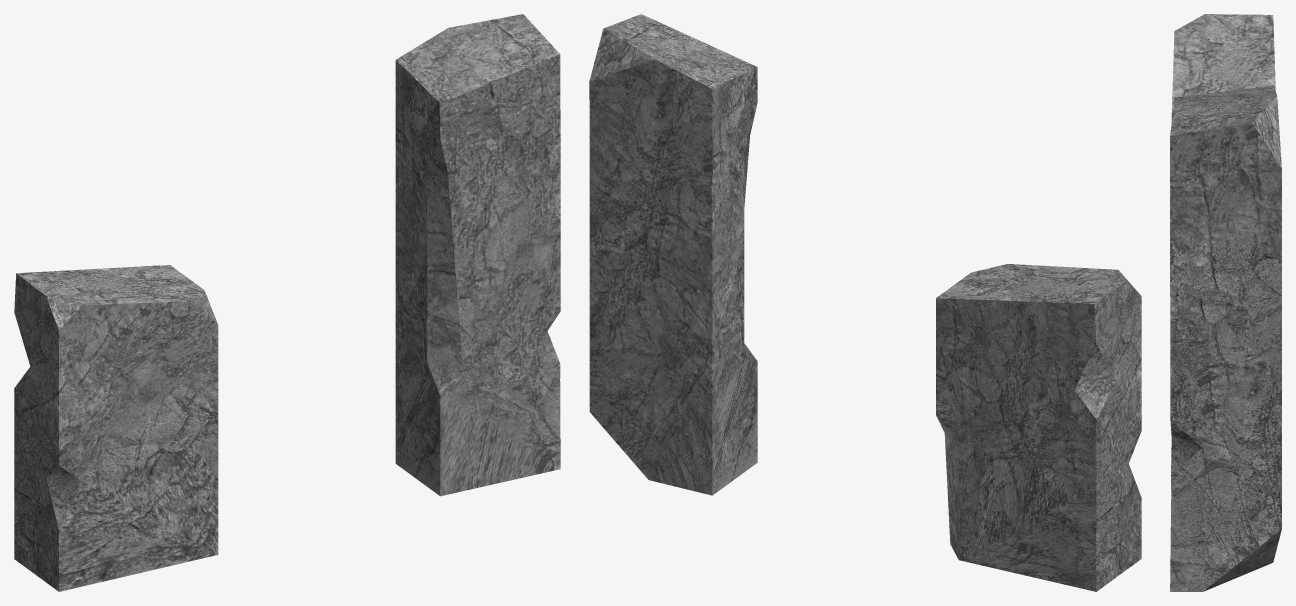
The model's file is materials_3_wall_8.fbx.
3 views of the same model, side by side, from view 1: azimuth 30°, elevation 25°; view 2: azimuth 150°, elevation 25°; view 3: azimuth 270°, elevation 25° (orthographic). The views are drawn at different scales.
Visible parts, largest first — view 1: materials_3_wall_8; view 2: materials_3_wall_8; view 3: materials_3_wall_8.
Part boxes in pixels (box(x1,y1,x2,y2)): materials_3_wall_8: box(14, 14, 560, 591); materials_3_wall_8: box(589, 14, 1141, 591); materials_3_wall_8: box(1170, 14, 1281, 591).
Bounding box in the file's own units: 286 × 236 × 50.59.
